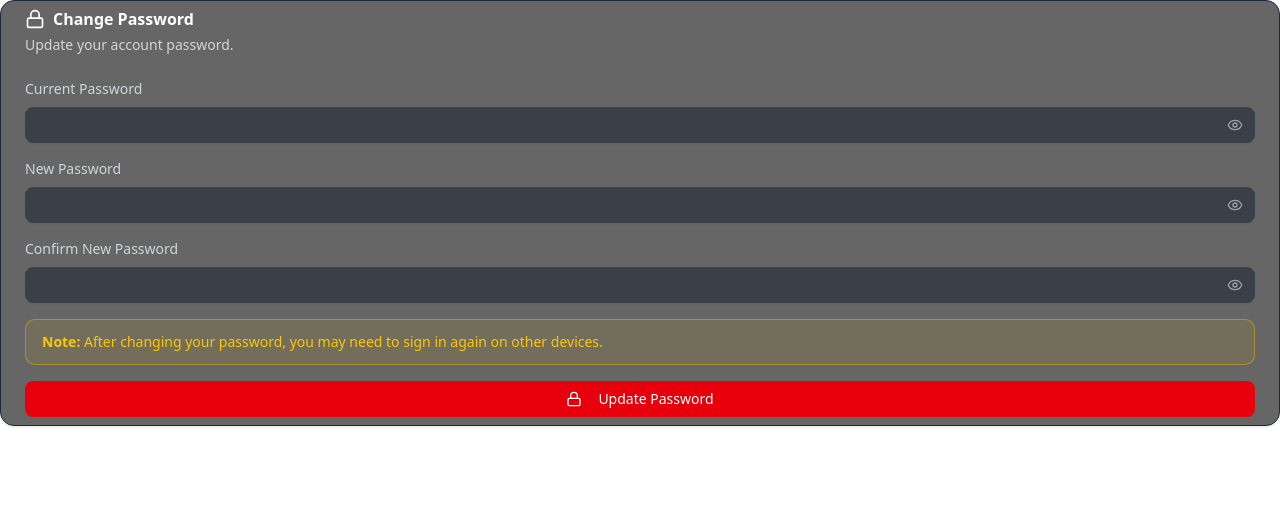
Test: ChangePasswordForm › should show error when password is too short
In the password field labelled "Current Password": x=640, y=125 [25,107,1255,143], type "oldpass"
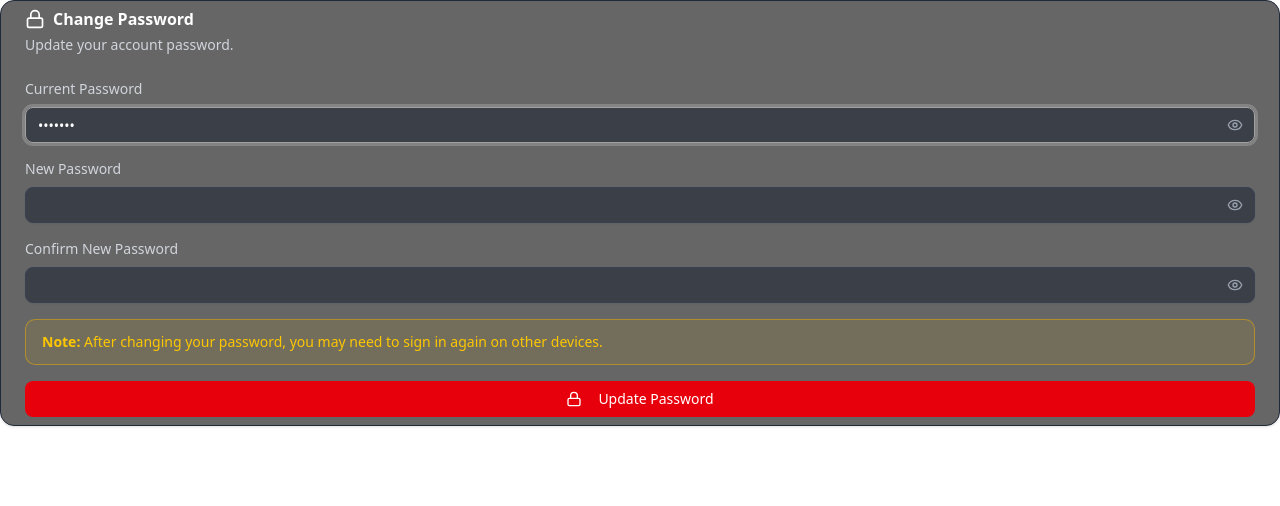
In the password field labelled "New Password": x=640, y=205 [25,187,1255,223], type "short"
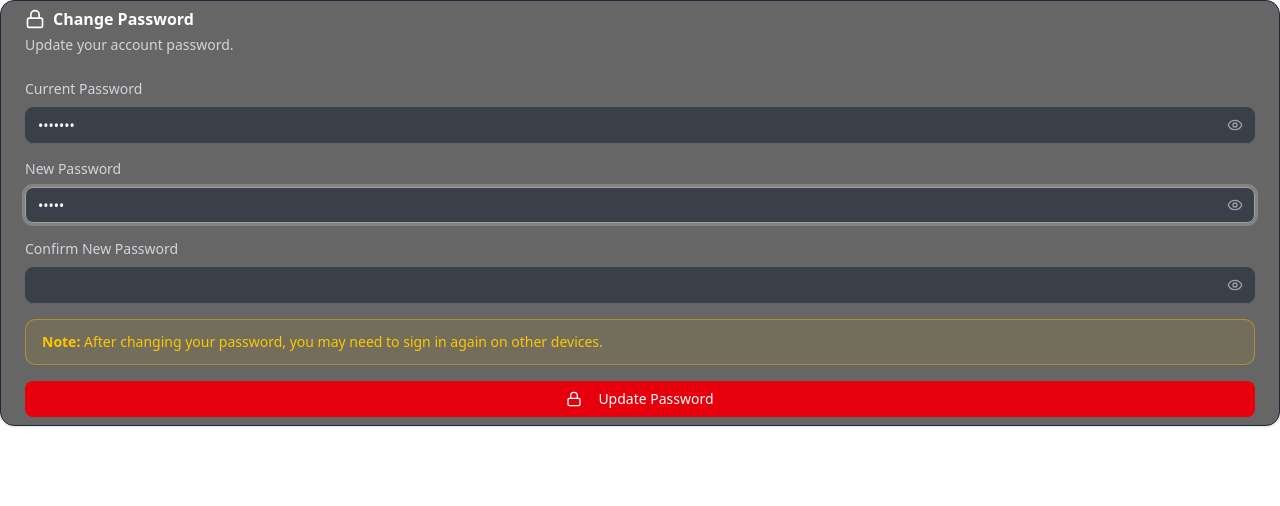
In the password field labelled "Confirm New Password": x=640, y=285 [25,267,1255,303], type "short"
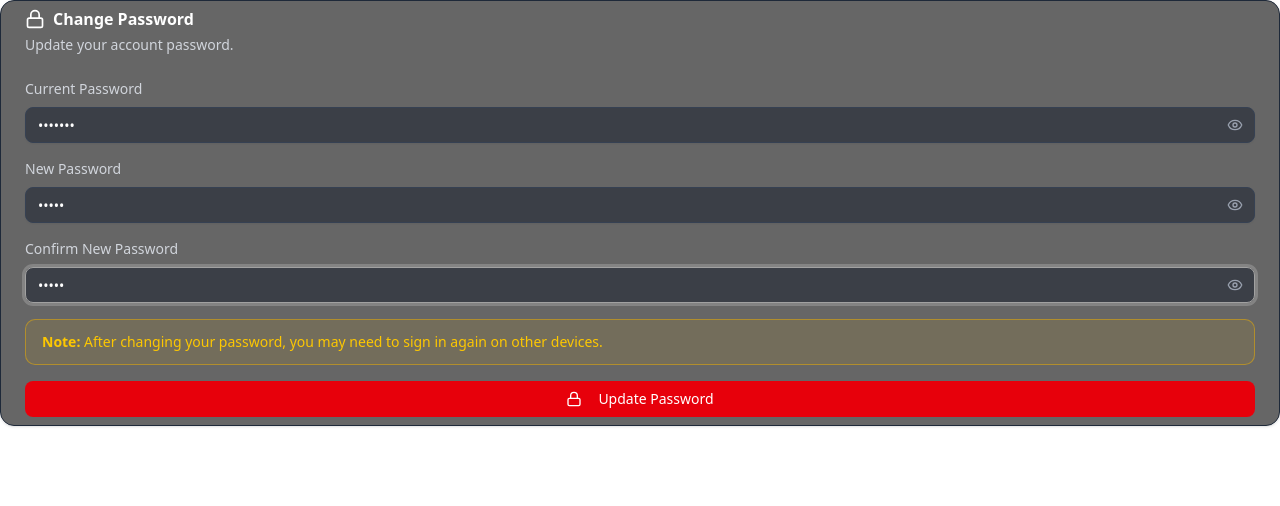
Click the button "Update Password": x=640, y=399 [25,381,1255,417]
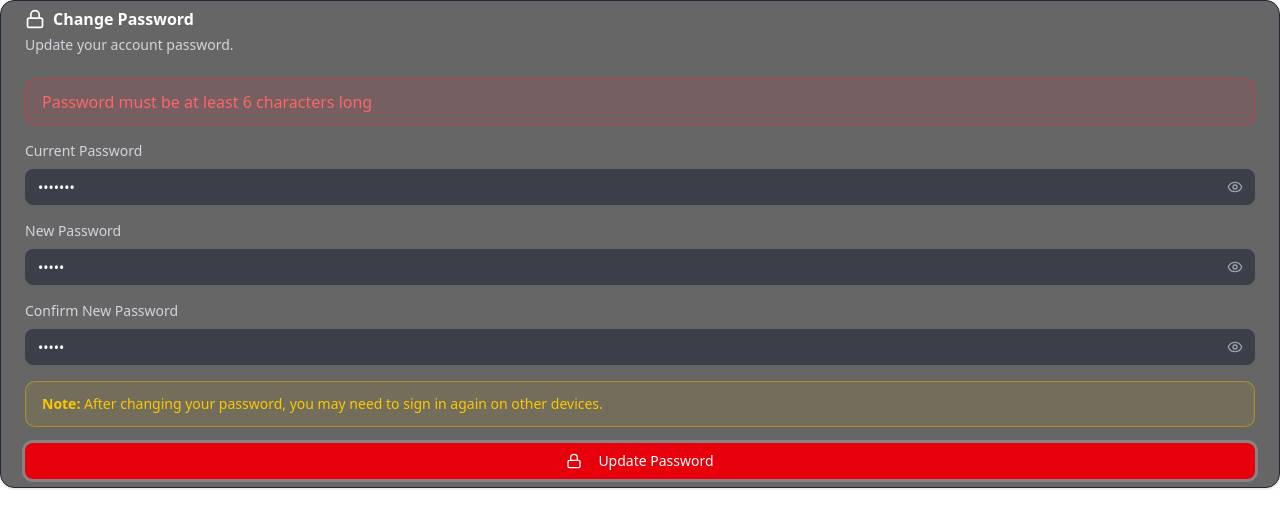
Expected: the text "Password must be at least 6 characters long" is shown, [25,79,1255,125]
